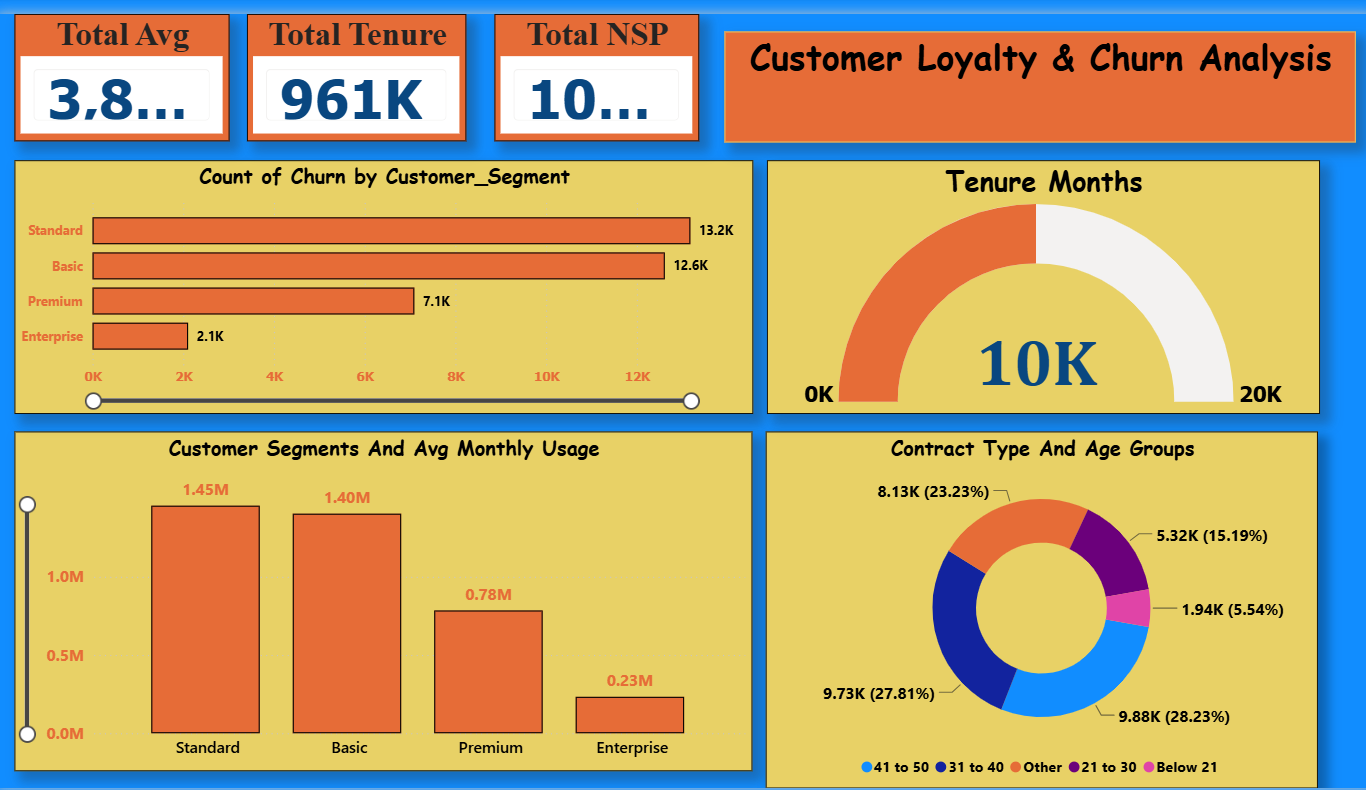

The dashboard page shown, as its layout file describes it:
{"tool":"powerbi","page":{"name":"Customer Loyalty","canvas":[1280,720],"ordinal":0},"visuals":[{"type":"clusteredColumnChart","title":"Customer Segments And Avg Monthly  Usage ","fields":{"Category":["customer_churn_dataset.Customer_Segment"],"Y":["Sum(customer_churn_dataset.Avg_Monthly_Usage_GB)"]},"box":[16.1,387.8,686.3,316.1],"z":0},{"type":"donutChart","title":"Contract Type And Age Groups","fields":{"Category":["customer_churn_dataset.Age group"],"Y":["CountNonNull(customer_churn_dataset.Contract_Type)"]},"box":[715.6,387.8,513.7,332.2],"z":1000},{"type":"clusteredBarChart","fields":{"Category":["customer_churn_dataset.Customer_Segment"],"Y":["CountNonNull(customer_churn_dataset.Churn)"]},"box":[15.7,135.7,687.1,235.7],"z":2000},{"type":"cardVisual","title":"Total Avg","fields":{"Data":["Sum(customer_churn_dataset.Avg_Monthly_Usage_GB)"]},"box":[15.7,0,200,118.6],"z":3000},{"type":"cardVisual","title":"Total Tenure","fields":{"Data":["Sum(customer_churn_dataset.Tenure_Months)"]},"box":[232.9,0,204.3,118.6],"z":4000},{"type":"cardVisual","title":"Total NSP","fields":{"Data":["Sum(table2.NPS_Score)"]},"box":[462.9,0,190,118.6],"z":5000},{"type":"gauge","title":"Tenure Months","fields":{"Y":["customer_churn_dataset.count yes"]},"box":[716,136,514,236],"z":6000},{"type":"textbox","title":"Customer Loyalty & Churn Analysis","box":[677.1,15.7,587.1,102.9],"z":7000}]}

Visuals, with their boxes in screenshot pixels (x1, y1, x2, y2), scaled from the page's 1280x720 canvas onto the 1366x790 screenshot:
"Customer Segments And Avg Monthly  Usage " clusteredColumnChart: crop(17, 426, 750, 772)
"Contract Type And Age Groups" donutChart: crop(764, 426, 1312, 789)
clusteredBarChart - customer_churn_dataset.Customer_Segment x CountNonNull(customer_churn_dataset.Churn): crop(17, 149, 750, 408)
"Total Avg" cardVisual: crop(17, 0, 230, 130)
"Total Tenure" cardVisual: crop(249, 0, 467, 130)
"Total NSP" cardVisual: crop(494, 0, 697, 130)
"Tenure Months" gauge: crop(764, 149, 1313, 408)
"Customer Loyalty & Churn Analysis" textbox: crop(723, 17, 1349, 130)
